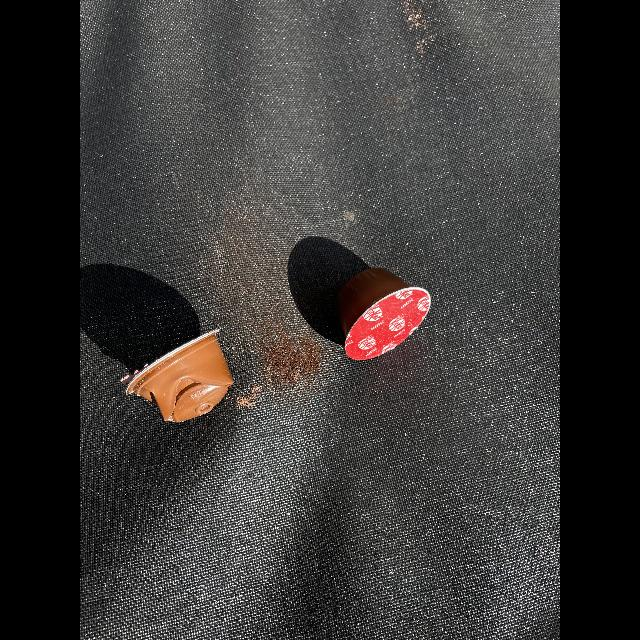damaged_capsule: (114, 317, 246, 433)
intact_capsule: (324, 262, 440, 366)
